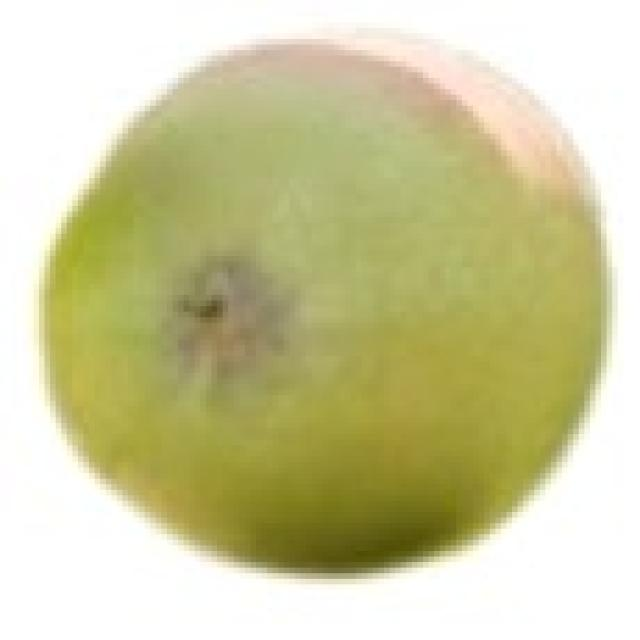50-_ripeness: (41, 34, 604, 581)
